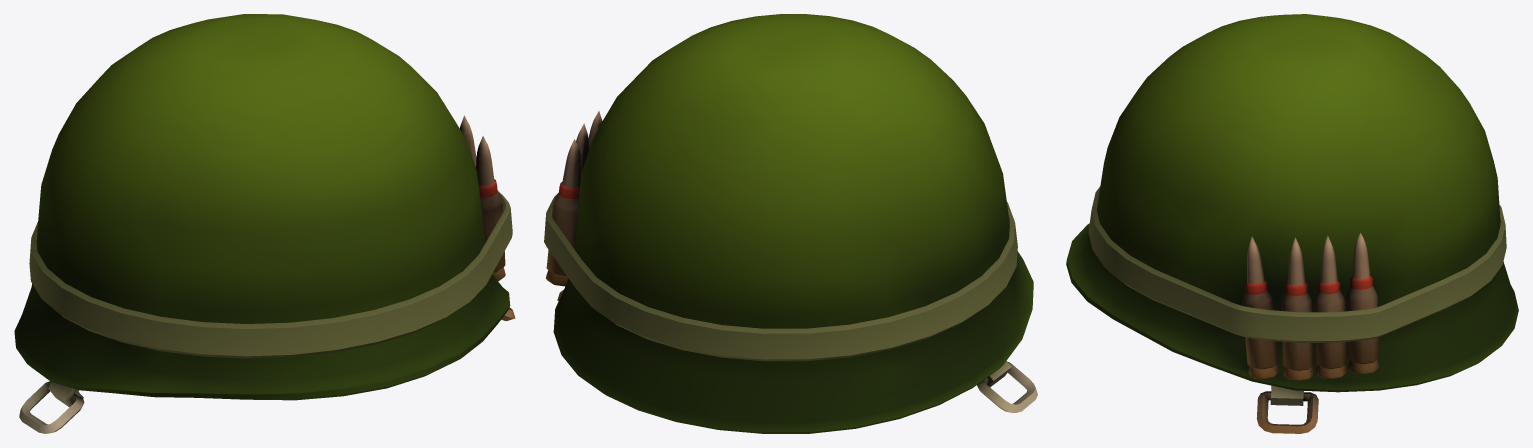
File: Cap_Military_Helmet.gltf
3 renders of one model, left to right at view 1: azimuth 30°, elevation 25°; view 2: azimuth 150°, elevation 25°; view 3: azimuth 270°, elevation 25°, orthographic. The views are drawn at different scales.
Parts seen in each view (by area): view 1: Cap_Military_Helmet; view 2: Cap_Military_Helmet; view 3: Cap_Military_Helmet.
Boxes of the visible parts, x1,y1,x2,y2 form: Cap_Military_Helmet: (14, 14, 515, 433); Cap_Military_Helmet: (544, 14, 1037, 433); Cap_Military_Helmet: (1066, 14, 1518, 433).
Size of the model in its own units: 1.13 by 0.7325 by 1.03.
Materials: 2 (2 with a texture image).
